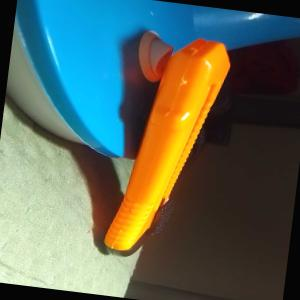estilete: (102, 28, 233, 266)
